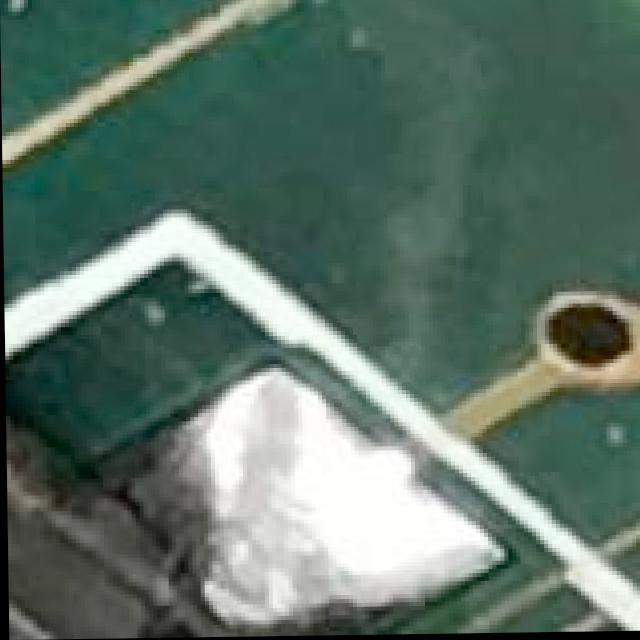capacitor: (5, 439, 479, 640)
